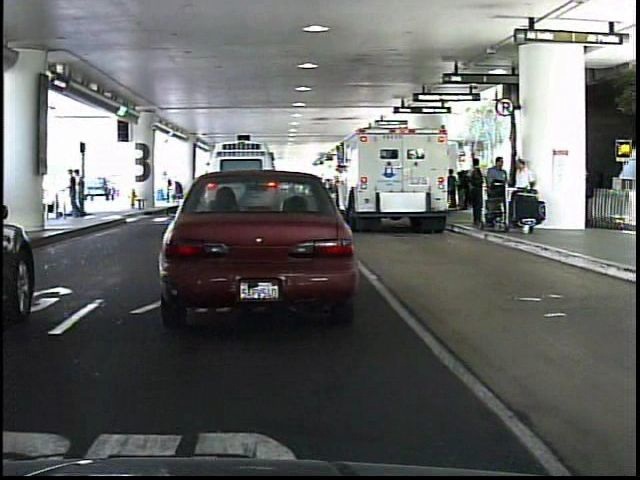person: (56, 167, 77, 223)
